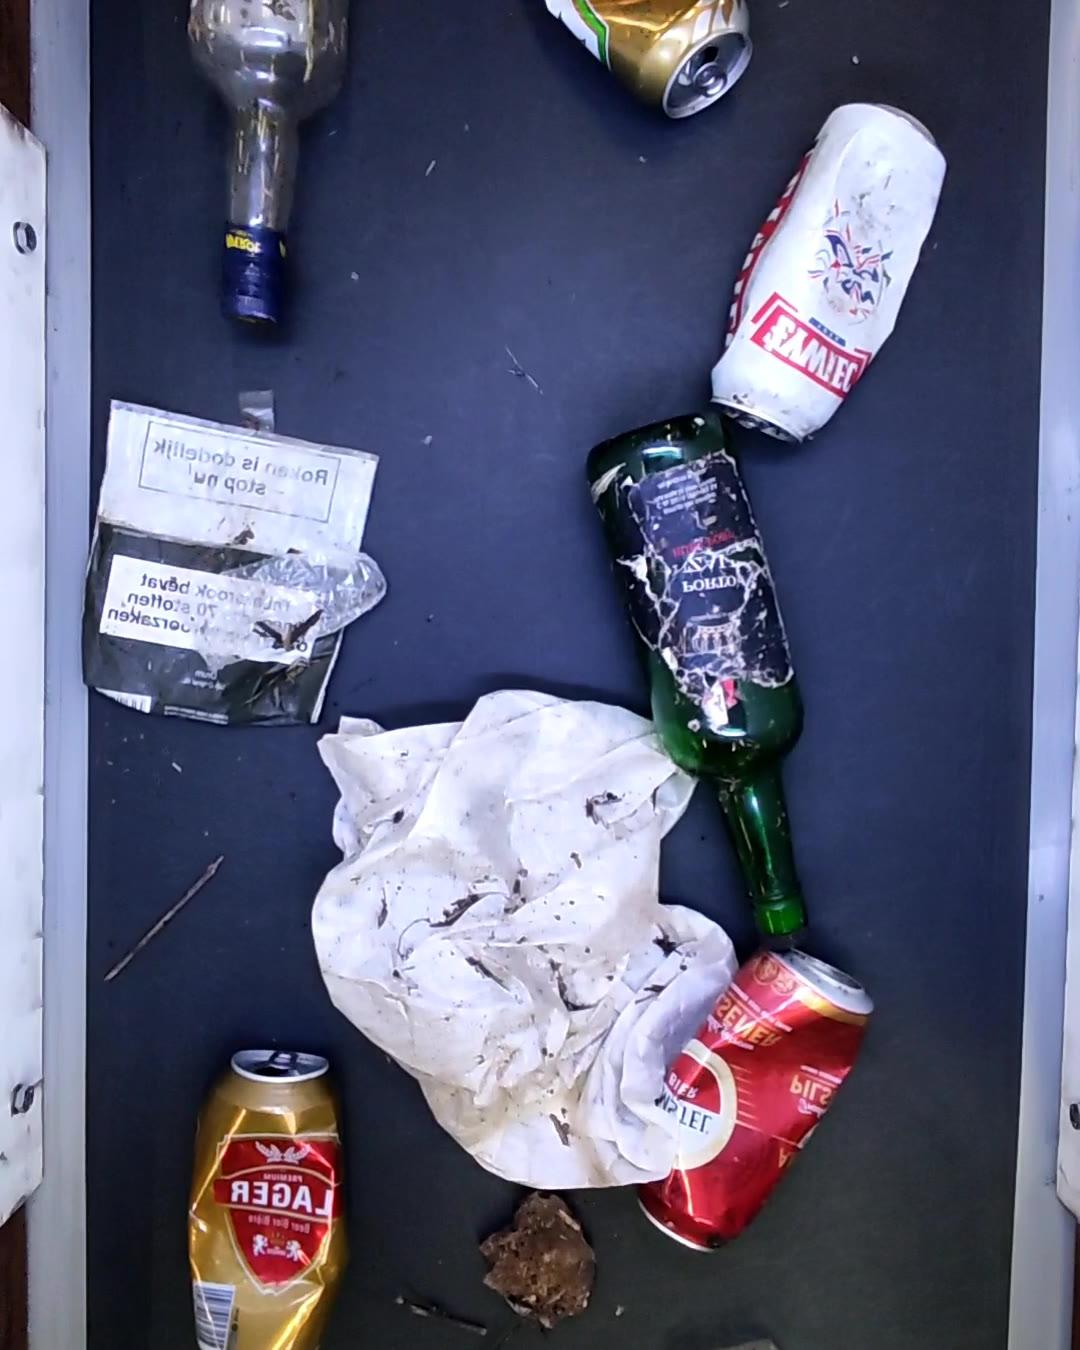Drankblikjes: (711, 97, 940, 439), (631, 957, 863, 1262), (180, 1039, 343, 1350), (546, 0, 748, 132)
Plastic folies of stukken daarvan 2.5- 50 cm: (185, 550, 388, 679)
